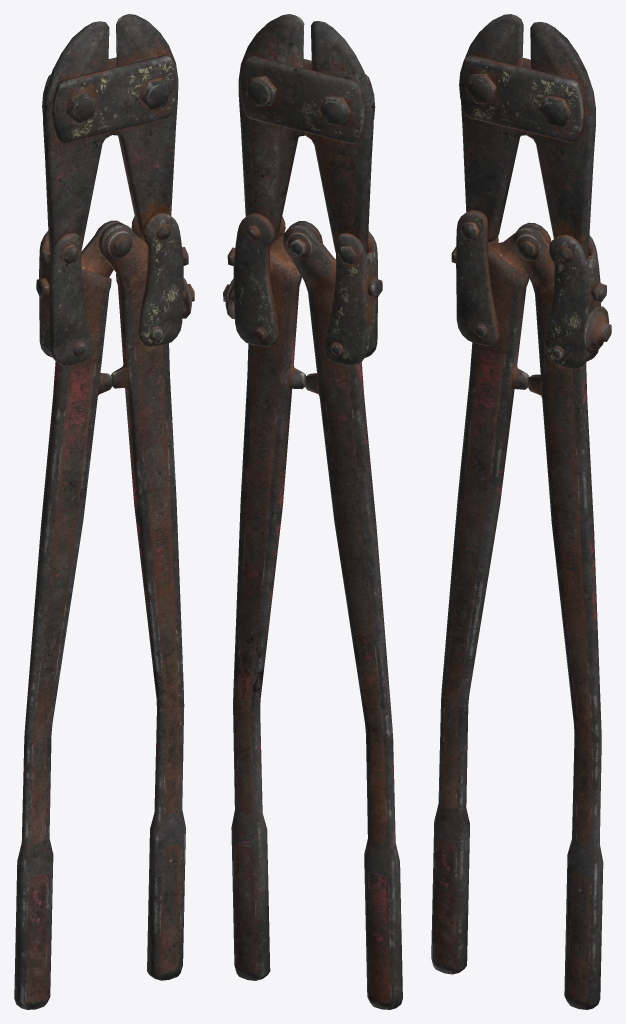
The model's file is bolt_cutters_01.glb.
3 renders of one model, left to right at view 1: azimuth 30°, elevation 25°; view 2: azimuth 150°, elevation 25°; view 3: azimuth 330°, elevation 25°, orthographic.
Parts seen in each view (by area): view 1: bolt_cutters_01; view 2: bolt_cutters_01; view 3: bolt_cutters_01.
Part boxes in pixels (<box>): bolt_cutters_01: <box>14,14,194,1009</box>; bolt_cutters_01: <box>223,14,402,1009</box>; bolt_cutters_01: <box>431,14,611,1009</box>.
Bounding box in the file's own units: 0.151 × 0.8026 × 0.036.
1 material, 1 textured.
